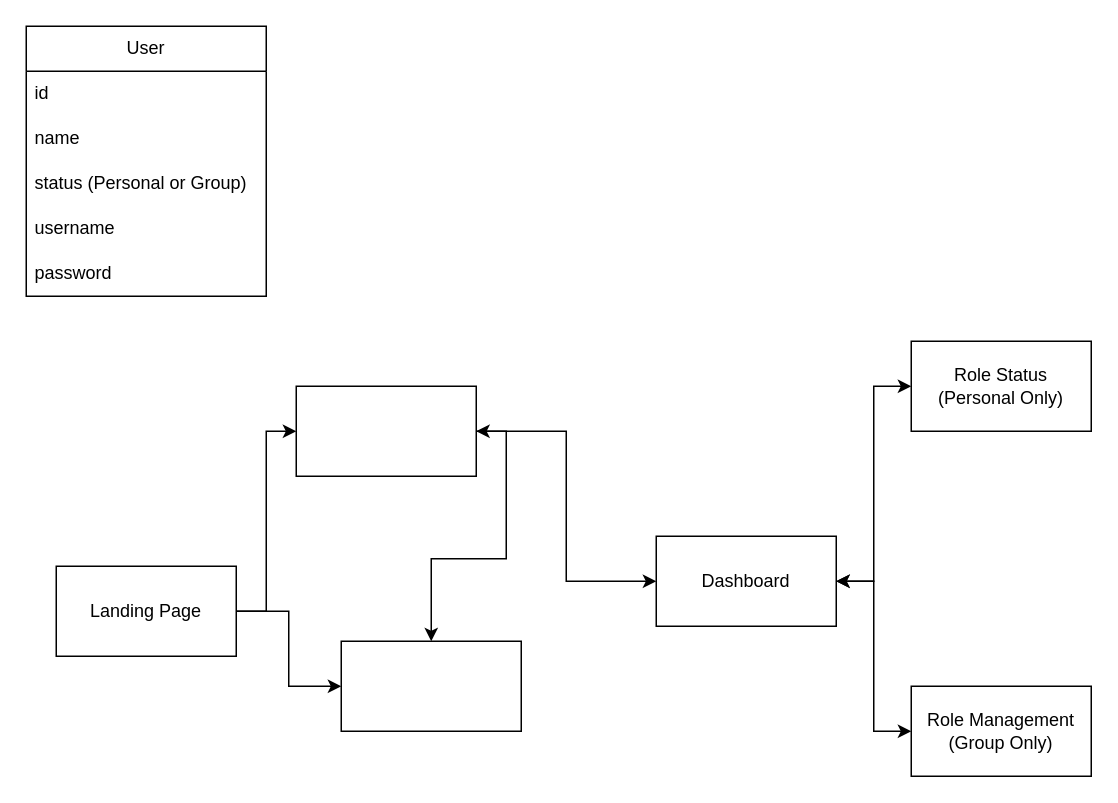
The diagram is 1118 pixels wide and 803 high, and some of its shapes have lost their labels. The centre of each missing label's shape, as x and y in pixels:
Login: the point at 385,430
Register: the point at 430,685
